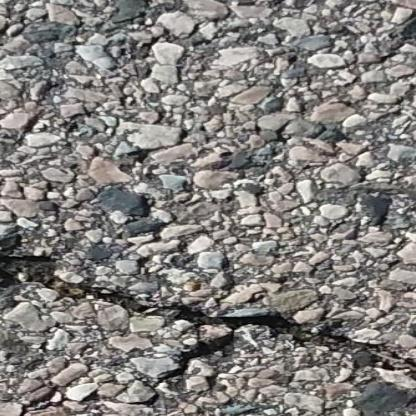Cracks: (0, 235, 416, 388)
